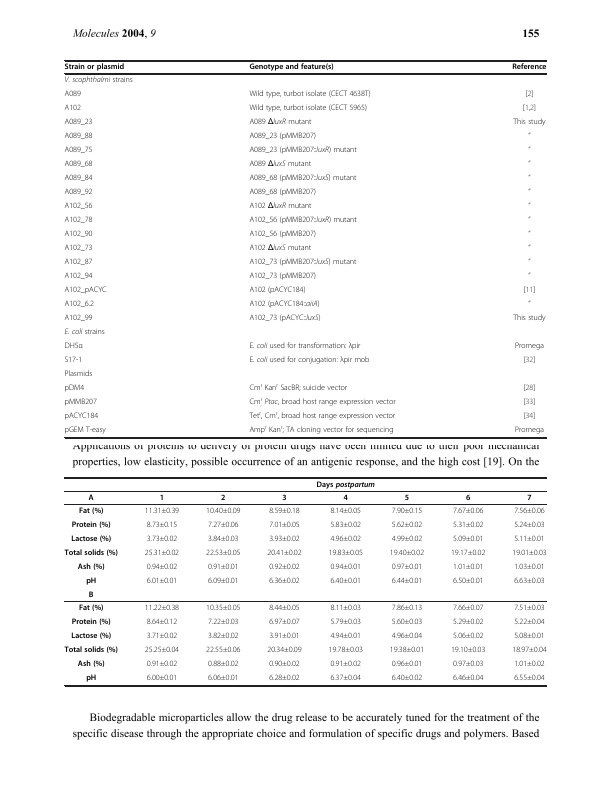borderless: (63, 59, 546, 437), (64, 476, 546, 685)
cell: (248, 396, 396, 408), (248, 410, 396, 422), (248, 424, 394, 436), (248, 90, 371, 100), (248, 356, 370, 366), (248, 104, 368, 114), (248, 382, 348, 394), (248, 342, 361, 352), (248, 146, 358, 156), (248, 216, 358, 226), (248, 174, 357, 184), (248, 258, 357, 268), (248, 63, 335, 72), (248, 314, 321, 324), (248, 300, 320, 310), (64, 76, 134, 86), (248, 132, 317, 142), (248, 188, 317, 198), (248, 230, 317, 240), (248, 272, 317, 282), (248, 118, 312, 128), (248, 160, 312, 170), (248, 202, 312, 212), (248, 244, 312, 254), (248, 286, 306, 296), (64, 548, 119, 558), (64, 645, 119, 655), (64, 63, 125, 72), (316, 480, 376, 489), (64, 286, 108, 296), (64, 426, 107, 436), (64, 328, 106, 338), (70, 534, 112, 544), (70, 631, 112, 641), (71, 520, 111, 530), (71, 617, 111, 627), (64, 412, 99, 422), (512, 118, 546, 128), (512, 314, 546, 324), (64, 398, 98, 408), (511, 63, 547, 72), (64, 300, 95, 310), (514, 342, 545, 352), (514, 426, 545, 436), (64, 118, 93, 128), (64, 132, 93, 142), (64, 146, 93, 156), (64, 160, 93, 170), (64, 174, 93, 184), (64, 188, 93, 198), (64, 202, 93, 212), (64, 216, 93, 226), (64, 230, 93, 240), (64, 244, 93, 254), (64, 258, 93, 268), (64, 272, 93, 282), (64, 314, 93, 324), (64, 370, 93, 380), (77, 562, 105, 572), (77, 659, 105, 669), (78, 506, 104, 516), (78, 603, 104, 613), (144, 507, 180, 514), (205, 507, 241, 514), (144, 549, 180, 556), (205, 549, 241, 556), (266, 549, 302, 556), (328, 549, 364, 556), (389, 549, 425, 556), (450, 549, 486, 556), (511, 549, 547, 556), (144, 604, 180, 611), (205, 604, 241, 611), (144, 646, 180, 653), (205, 646, 241, 653), (266, 646, 302, 653), (328, 646, 364, 653), (389, 646, 425, 653), (450, 646, 486, 653), (511, 646, 547, 653), (268, 507, 301, 514), (329, 507, 362, 514), (513, 507, 546, 514), (268, 521, 301, 528), (329, 521, 362, 528), (513, 521, 546, 528), (268, 535, 301, 542), (329, 535, 362, 542), (513, 535, 546, 542), (268, 563, 301, 570), (329, 563, 362, 570), (513, 563, 546, 570), (268, 577, 301, 584), (329, 577, 362, 584), (513, 577, 546, 584), (268, 604, 301, 611), (329, 604, 362, 611), (513, 604, 546, 611), (268, 618, 301, 625), (329, 618, 362, 625), (513, 618, 546, 625), (268, 632, 301, 639), (329, 632, 362, 639), (513, 632, 546, 639), (268, 660, 301, 667), (329, 660, 362, 667), (513, 660, 546, 667), (268, 674, 301, 681), (329, 674, 362, 681), (513, 674, 546, 681), (391, 507, 423, 514), (452, 507, 484, 514), (146, 521, 178, 528), (207, 521, 239, 528), (391, 521, 423, 528), (452, 521, 484, 528), (146, 535, 178, 542), (207, 535, 239, 542), (391, 535, 423, 542), (452, 535, 484, 542), (146, 563, 178, 570), (207, 563, 239, 570), (391, 563, 423, 570), (452, 563, 484, 570), (146, 577, 178, 584), (207, 577, 239, 584), (391, 577, 423, 584), (452, 577, 484, 584), (391, 604, 423, 611), (452, 604, 484, 611), (146, 618, 178, 625), (207, 618, 239, 625), (391, 618, 423, 625), (452, 618, 484, 625), (146, 632, 178, 639), (207, 632, 239, 639), (391, 632, 423, 639), (452, 632, 484, 639), (146, 660, 178, 667), (207, 660, 239, 667), (391, 660, 423, 667), (452, 660, 484, 667), (146, 674, 178, 681), (207, 674, 239, 681), (391, 674, 423, 681), (452, 674, 484, 681), (64, 384, 85, 394), (64, 342, 84, 352), (64, 356, 83, 366), (64, 90, 82, 100), (64, 104, 82, 114), (522, 104, 537, 114), (522, 286, 536, 296), (522, 356, 536, 366), (522, 384, 536, 394), (522, 398, 536, 408), (522, 412, 536, 422), (85, 576, 97, 586), (85, 673, 97, 683), (524, 90, 534, 100), (88, 493, 95, 503), (342, 493, 349, 503), (159, 493, 165, 503), (220, 493, 226, 503), (281, 493, 287, 503), (404, 493, 410, 503), (465, 493, 471, 503), (526, 493, 532, 503), (88, 590, 94, 600), (527, 132, 531, 140), (527, 146, 531, 154), (527, 160, 531, 168), (527, 174, 531, 182), (527, 188, 531, 196), (527, 202, 531, 210), (527, 216, 531, 224), (527, 230, 531, 238), (527, 244, 531, 252), (527, 258, 531, 266), (527, 272, 531, 280), (527, 300, 531, 308)
